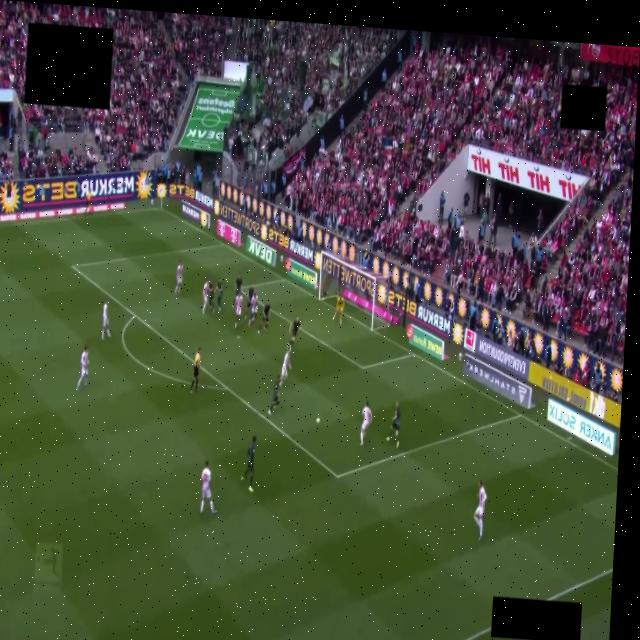ball: (315, 417, 320, 424)
player: (199, 462, 215, 514), (241, 436, 255, 491), (474, 481, 486, 540), (386, 402, 399, 447), (76, 346, 88, 390), (359, 402, 371, 445), (268, 376, 280, 414), (280, 347, 292, 385), (101, 299, 110, 339), (288, 317, 299, 348), (244, 284, 254, 318), (258, 303, 269, 333), (233, 292, 242, 328), (333, 295, 344, 324), (248, 292, 257, 327), (174, 261, 183, 295), (232, 275, 241, 304), (202, 279, 208, 313), (216, 279, 222, 311), (208, 281, 213, 312)
referee: (190, 347, 200, 392)
